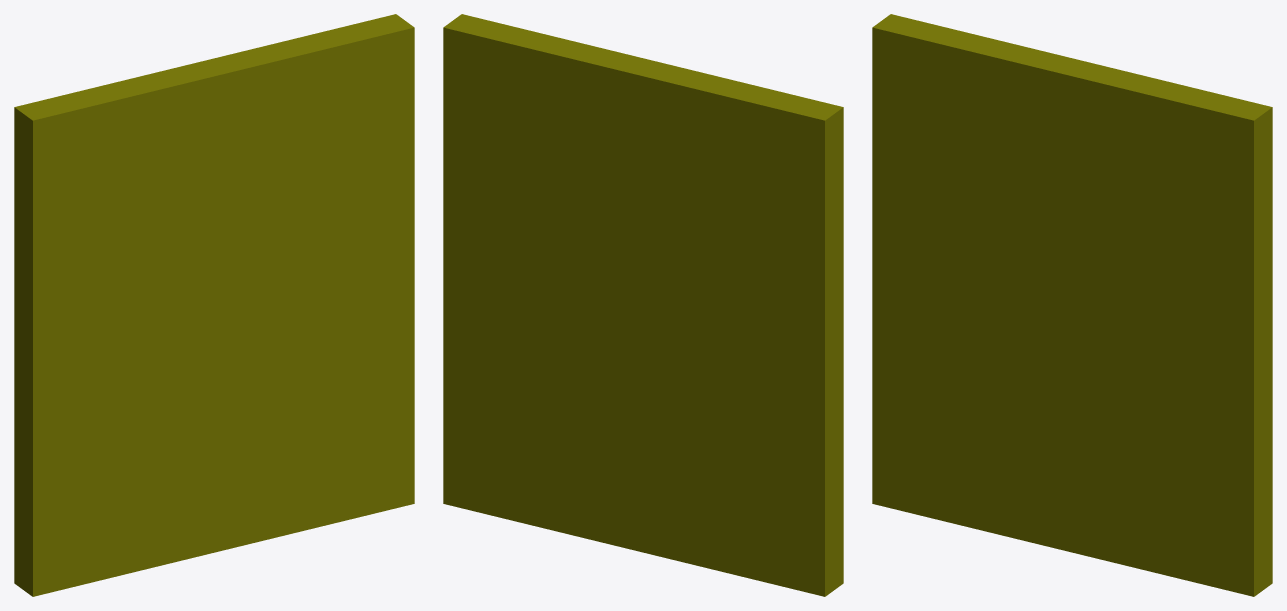
The model's file is door_yellow.glb.
3 views of the same model, side by side, from view 1: azimuth 30°, elevation 25°; view 2: azimuth 150°, elevation 25°; view 3: azimuth 330°, elevation 25° (orthographic).
Visible parts, largest first — view 1: door_yellow; view 2: door_yellow; view 3: door_yellow.
Part boxes in pixels (x1=…): door_yellow: x1=14, y1=14, x2=414, y2=596; door_yellow: x1=443, y1=14, x2=843, y2=596; door_yellow: x1=872, y1=14, x2=1272, y2=596.
Size of the model in its own units: 2.38 by 2.84 by 0.2.
1 material, 1 textured.
